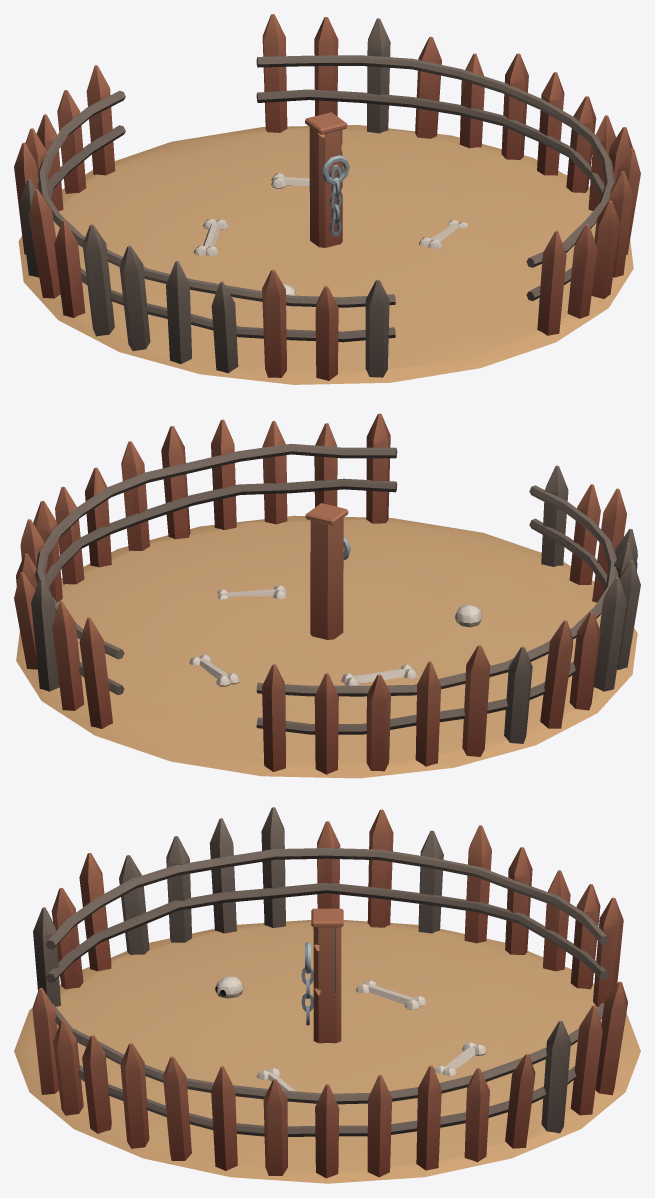
The model's file is fighting_ring.glb.
3 views of the same model, one above another, from view 1: azimuth 30°, elevation 25°; view 2: azimuth 150°, elevation 25°; view 3: azimuth 270°, elevation 25° (orthographic).
Parts seen in each view (by area): view 1: fighting_ring; view 2: fighting_ring; view 3: fighting_ring.
Part boxes in pixels (x1,y1,x2,y2): fighting_ring: [14, 14, 640, 384]; fighting_ring: [14, 413, 640, 778]; fighting_ring: [14, 807, 640, 1183].
Bounding box in the file's own units: 6.45 × 1.54 × 6.4.
1 material, 1 textured.
